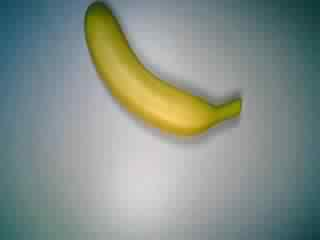banana: (77, 1, 248, 146)
